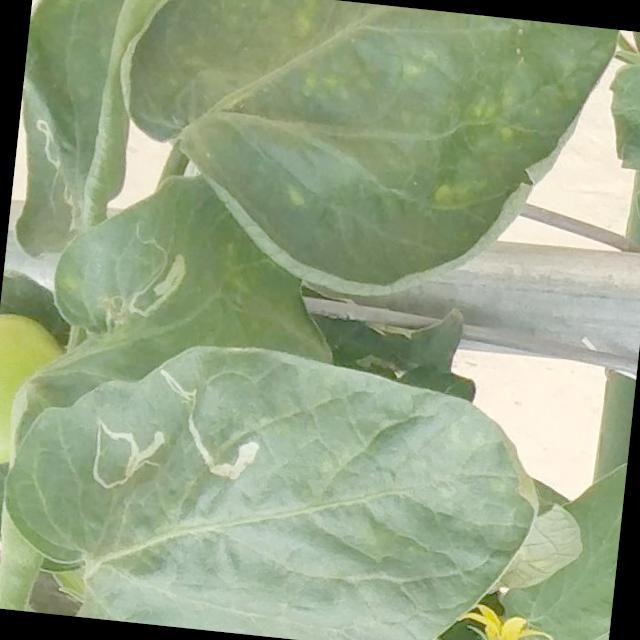Tomato target spot leaf: (0, 320, 555, 640), (7, 158, 360, 501), (3, 0, 150, 277)
